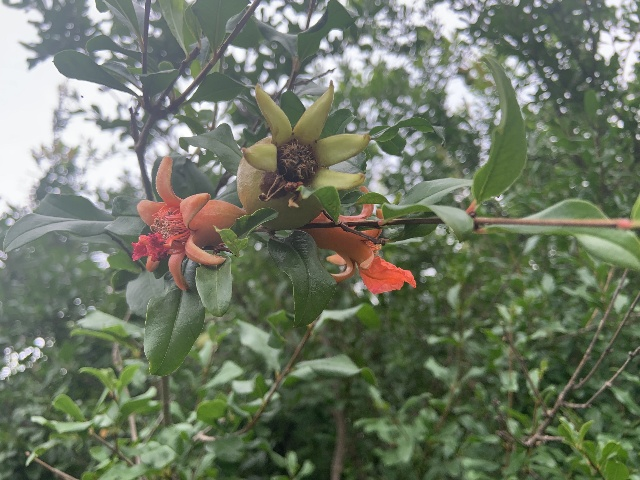early-fruit: (235, 78, 369, 228)
flower: (130, 155, 246, 291), (303, 186, 416, 294)
